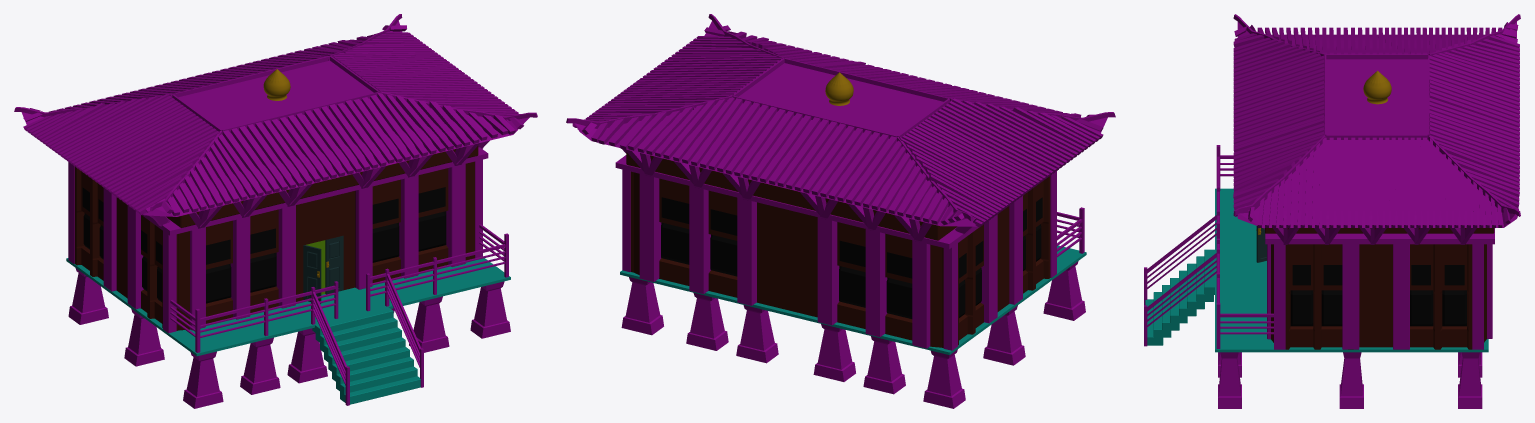
The model's file is Qin Dynasty Building 2.fbx.
The picture shows the model from 3 angles, left to right: view 1: azimuth 30°, elevation 25°; view 2: azimuth 150°, elevation 25°; view 3: azimuth 270°, elevation 25°; orthographic projection. The views are drawn at different scales.
Visible parts, largest first — view 1: Qin_Dynasty_Roof:epangroof_smShape, Qin_Dynasty_Roof:pCube224 (×2), pCube329, pCube310, pCube1, pCube226 (×2), pCube311, Qin_Dynasty_Roof:pCube222, Qin_Dynasty_Roof:pCube270, Qin_Dynasty_Roof1:pCube271, pCube280, pCube273 (+7 smaller); view 2: Qin_Dynasty_Roof:epangroof_smShape, pCube224 (×2), pCube329, pCube226 (×2), Qin_Dynasty_Roof:pCube222, pCube310, Qin_Dynasty_Roof:pCube270, pCube1, pCube271, pCube272, pCube276, pCube279 (+5 smaller); view 3: Qin_Dynasty_Roof:epangroof_smShape, pCube225 (×2), pCube1, pCube310, pCube329, Qin_Dynasty_Roof:pCube222, pCube311, pCube281, pCube282, pCube280, Qin_Dynasty_Roof:pCube270, Qin_Dynasty_Roof:pCone1.
Boxes of the visible parts, x1,y1,x2,y2 form: Qin_Dynasty_Roof:epangroof_smShape: [14, 14, 537, 216]; Qin_Dynasty_Roof:pCube224 (×2): [178, 162, 471, 330]; pCube329: [103, 164, 465, 330]; pCube310: [68, 159, 508, 405]; pCube1: [66, 258, 510, 356]; pCube226 (×2): [74, 166, 178, 330]; pCube311: [312, 305, 420, 404]; Qin_Dynasty_Roof:pCube222: [87, 140, 489, 235]; Qin_Dynasty_Roof:pCube270: [166, 145, 478, 227]; Qin_Dynasty_Roof1:pCube271: [183, 351, 223, 408]; pCube280: [470, 281, 510, 338]; pCube273: [240, 337, 280, 394]; Qin_Dynasty_Roof:epangroof_smShape: [566, 14, 1115, 227]; pCube224 (×2): [634, 172, 941, 347]; pCube329: [639, 174, 1022, 348]; pCube226 (×2): [941, 176, 1050, 347]; Qin_Dynasty_Roof:pCube222: [615, 149, 1059, 249]; pCube310: [622, 169, 1084, 350]; Qin_Dynasty_Roof:pCube270: [626, 152, 957, 240]; pCube1: [620, 245, 1086, 354]; pCube271: [923, 349, 965, 408]; pCube272: [863, 336, 905, 394]; pCube276: [736, 305, 778, 363]; pCube279: [686, 292, 728, 350]; Qin_Dynasty_Roof:epangroof_smShape: [1233, 14, 1520, 227]; pCube225 (×2): [1285, 244, 1472, 349]; pCube1: [1215, 188, 1488, 352]; pCube310: [1144, 145, 1483, 349]; pCube329: [1267, 244, 1492, 349]; Qin_Dynasty_Roof:pCube222: [1263, 215, 1494, 244]; pCube311: [1145, 249, 1221, 345]; pCube281: [1458, 352, 1482, 408]; pCube282: [1339, 352, 1363, 408]; pCube280: [1218, 352, 1241, 408]; Qin_Dynasty_Roof:pCube270: [1265, 228, 1494, 233]; Qin_Dynasty_Roof:pCone1: [1363, 70, 1391, 104].
Size of the model in its own units: 711 by 430 by 570.
